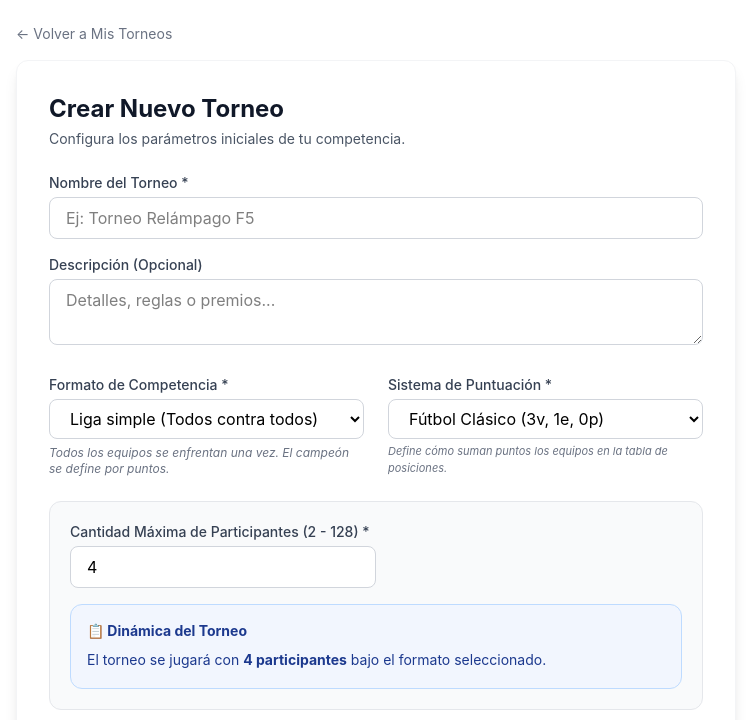
Scenario: CrearTorneoView (Formulario) › calcula automáticamente el total de participantes en Fase de Grupos
Note: Seleccionar select de formato por su name
Select "Fase de Grupos + Eliminatorias" in the dropdown showing "liga simple" below "Formato de Competencia *": coordinates (206, 419) [49, 399, 364, 439]
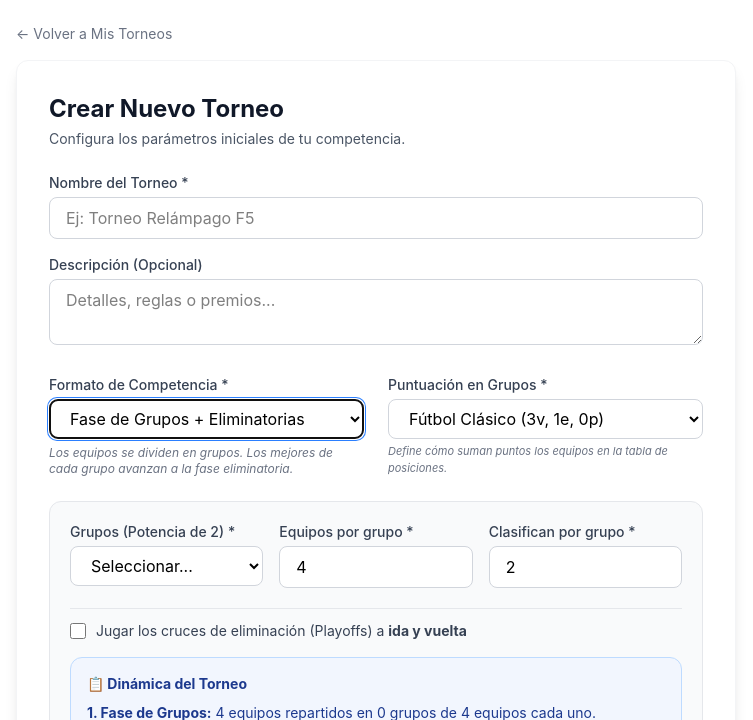
Note: Seleccionar 4 Grupos
Select "4 Grupos" in the dropdown showing "seleccionar..." below "Grupos (Potencia de 2) *": coordinates (167, 566) [70, 546, 263, 586]
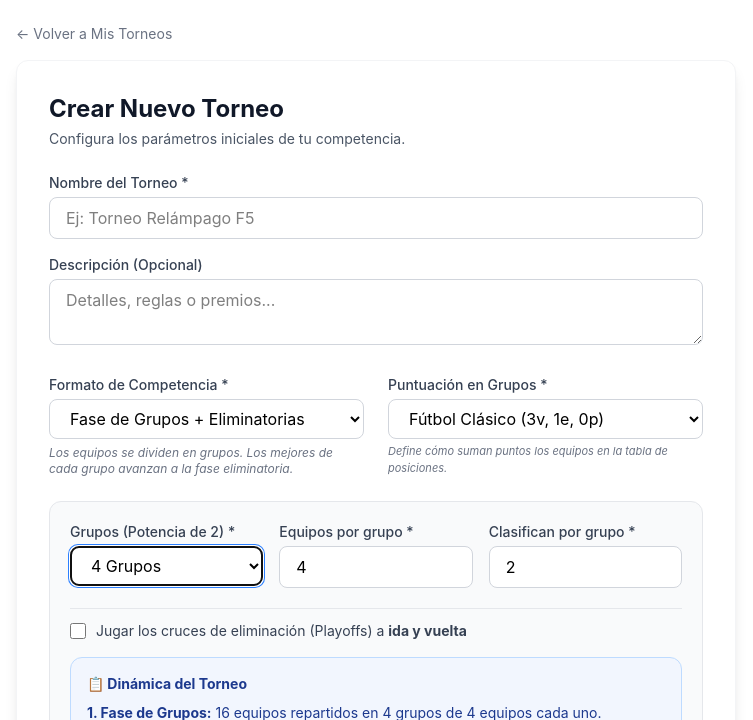
Note: Ingresar 5 equipos por grupo (buscamos por su placeholder)
Replace the text in the number field with placeholder "Ej: 4" below "Equipos por grupo *" with "5": coordinates (376, 567) [279, 546, 473, 588]
(page scrolled)
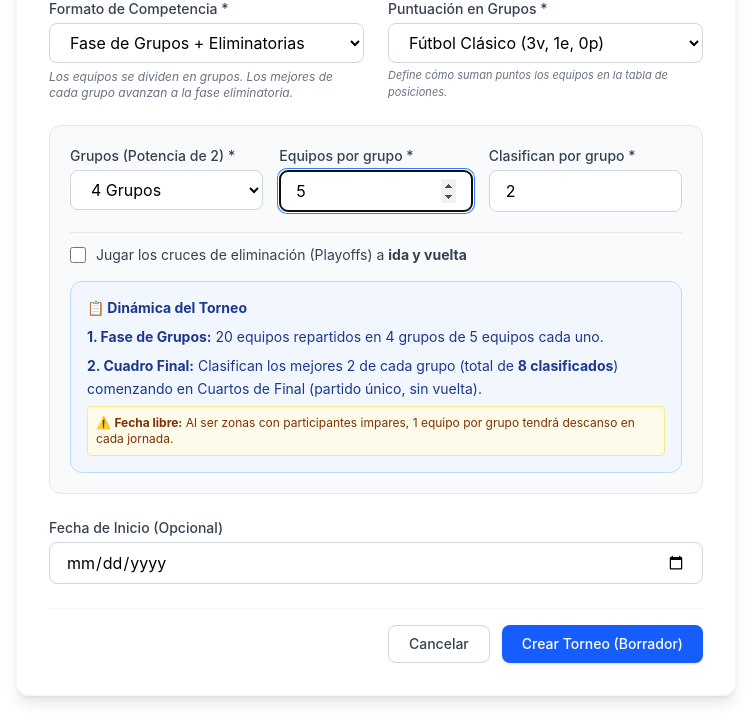
Expected: the text "20 equipos" is shown, [87, 326, 665, 349]
Expected: the text "Al ser zonas con participantes impares" is shown, [96, 415, 635, 446]
